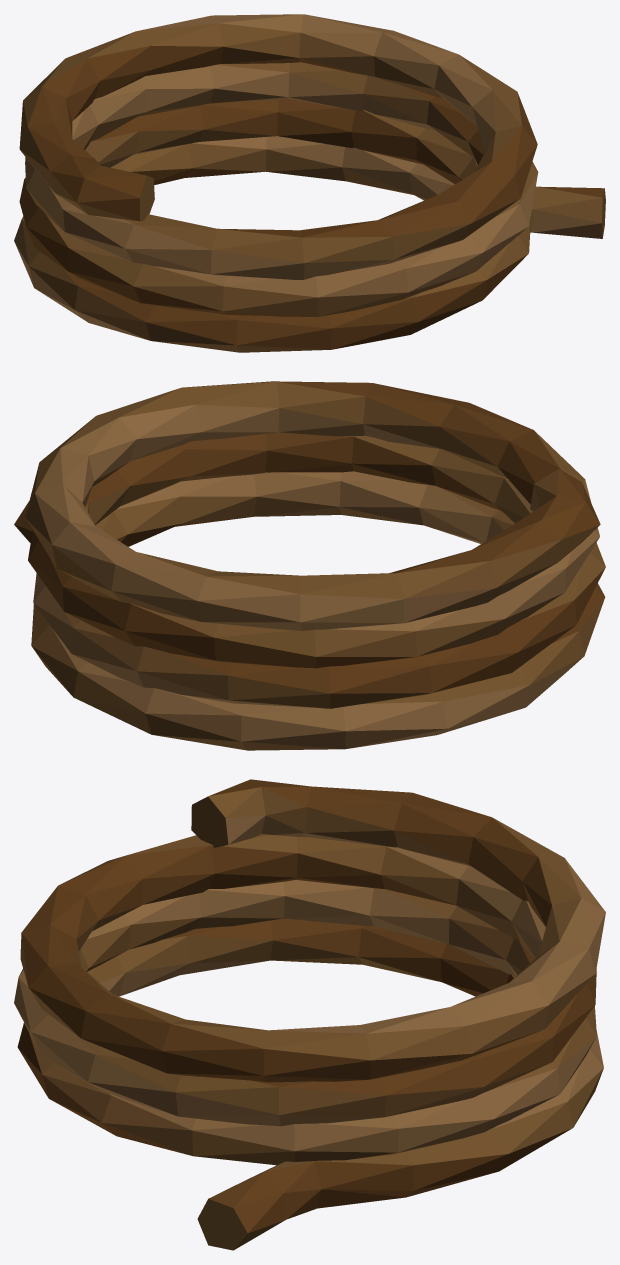
Rendered from Rope Coil.glb.
The picture shows the model from 3 angles, top to bottom: view 1: azimuth 30°, elevation 25°; view 2: azimuth 150°, elevation 25°; view 3: azimuth 270°, elevation 25°; orthographic projection. The views are drawn at different scales.
Parts seen in each view (by area): view 1: Rope Coil.Static; view 2: Rope Coil.Static; view 3: Rope Coil.Static.
Boxes of the visible parts, x1,y1,x2,y2 form: Rope Coil.Static: [14, 14, 605, 352]; Rope Coil.Static: [14, 381, 605, 750]; Rope Coil.Static: [14, 779, 605, 1250].
Bounding box in the file's own units: 1.04 × 0.329 × 0.8883.
